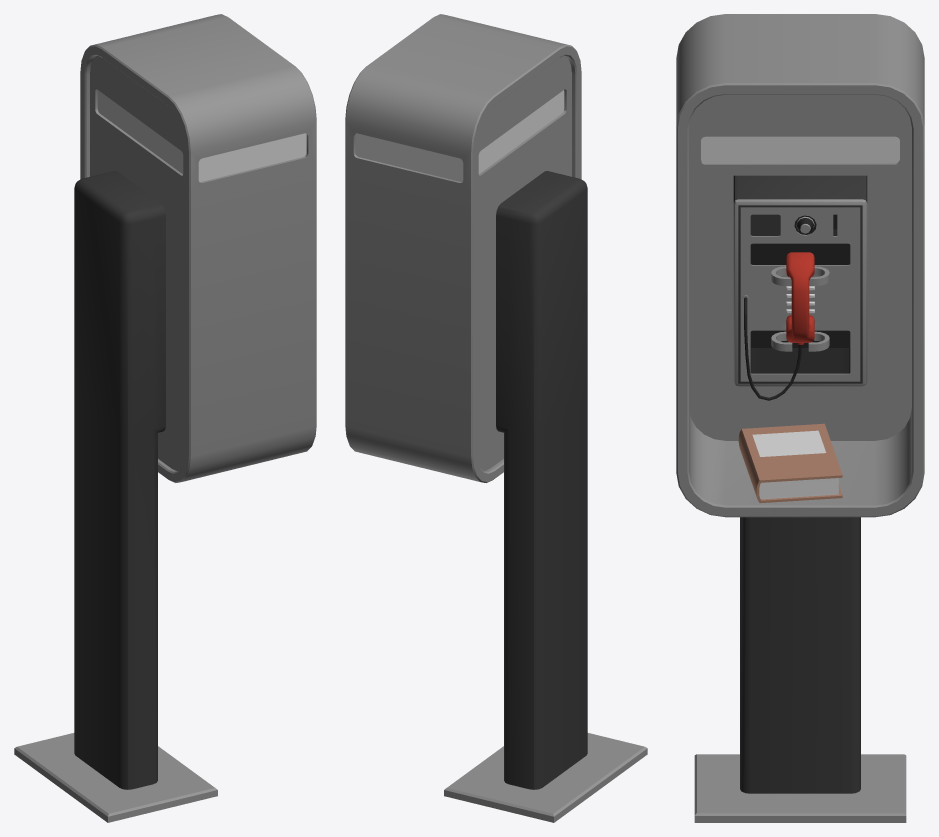
The model's file is Payphone (ver 1).fbx.
The picture shows the model from 3 angles, left to right: view 1: azimuth 30°, elevation 25°; view 2: azimuth 150°, elevation 25°; view 3: azimuth 270°, elevation 25°; orthographic projection. The views are drawn at different scales.
Visible parts, largest first — view 1: Payphone (ver 1); view 2: Payphone (ver 1); view 3: Payphone (ver 1).
Part boxes in pixels (x1=…): Payphone (ver 1): x1=14, y1=14, x2=316, y2=822; Payphone (ver 1): x1=345, y1=14, x2=647, y2=822; Payphone (ver 1): x1=676, y1=14, x2=924, y2=822.
Size of the model in its own units: 56.43 by 180 by 51.34.
